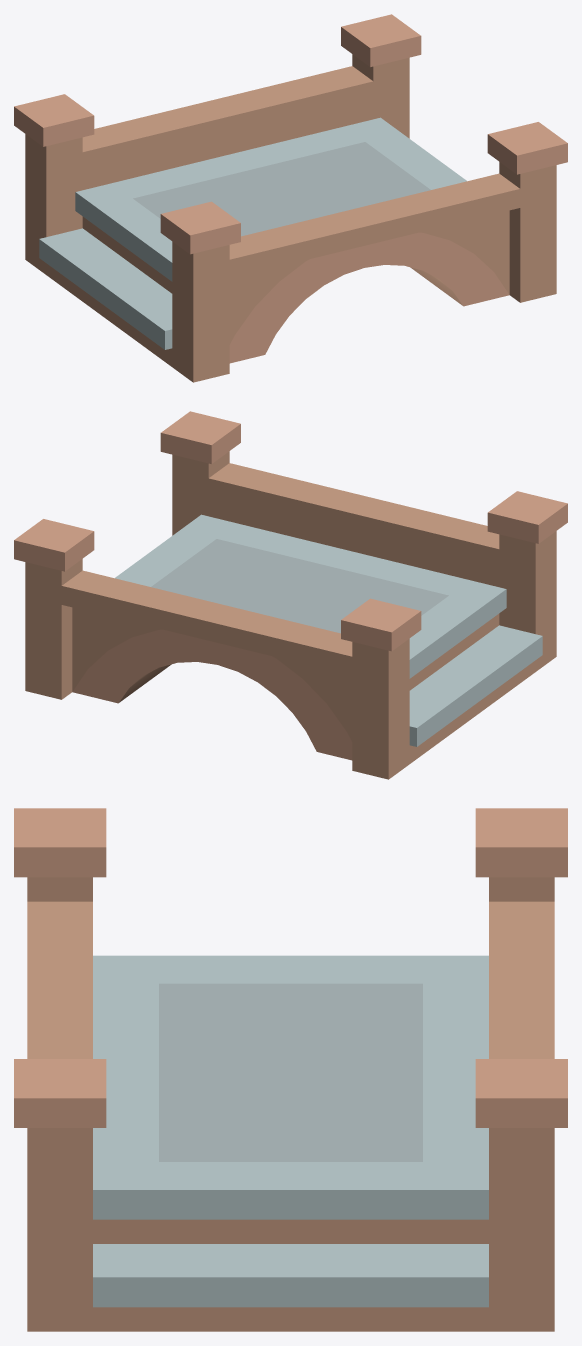
The model's file is bridge_woodRoundNarrow.glb.
The picture shows the model from 3 angles, top to bottom: view 1: azimuth 30°, elevation 25°; view 2: azimuth 150°, elevation 25°; view 3: azimuth 270°, elevation 25°; orthographic projection. The views are drawn at different scales.
Visible parts, largest first — view 1: bridge_woodRoundNarrow; view 2: bridge_woodRoundNarrow; view 3: bridge_woodRoundNarrow.
Part boxes in pixels (box(x1,y1,x2,y2)): bridge_woodRoundNarrow: box(14, 14, 567, 382); bridge_woodRoundNarrow: box(14, 411, 567, 779); bridge_woodRoundNarrow: box(14, 808, 567, 1331).
Size of the model in its own units: 1.04 by 0.4 by 0.84.
